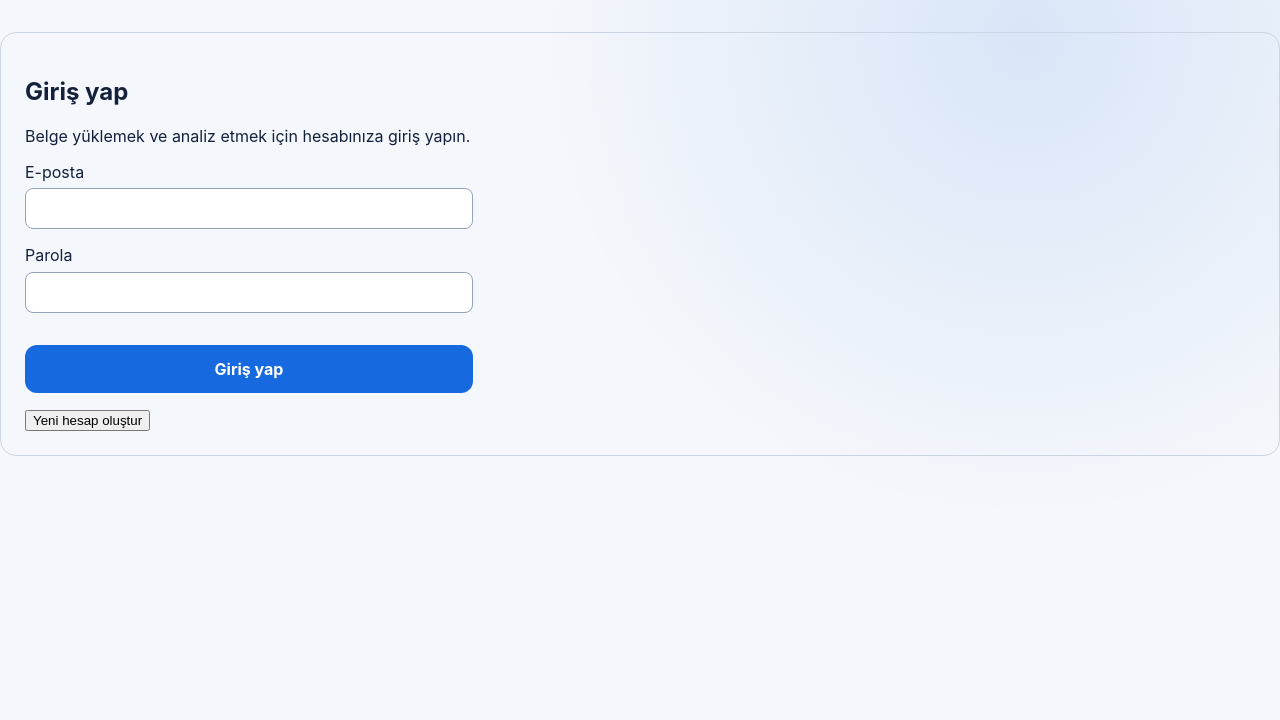
Test: AuthPanel › registers an ordinary user then asks them to log in
The image size is (1280, 720).
Click the button "Yeni hesap oluştur".
click(88, 420)  # box [25,410,150,431]
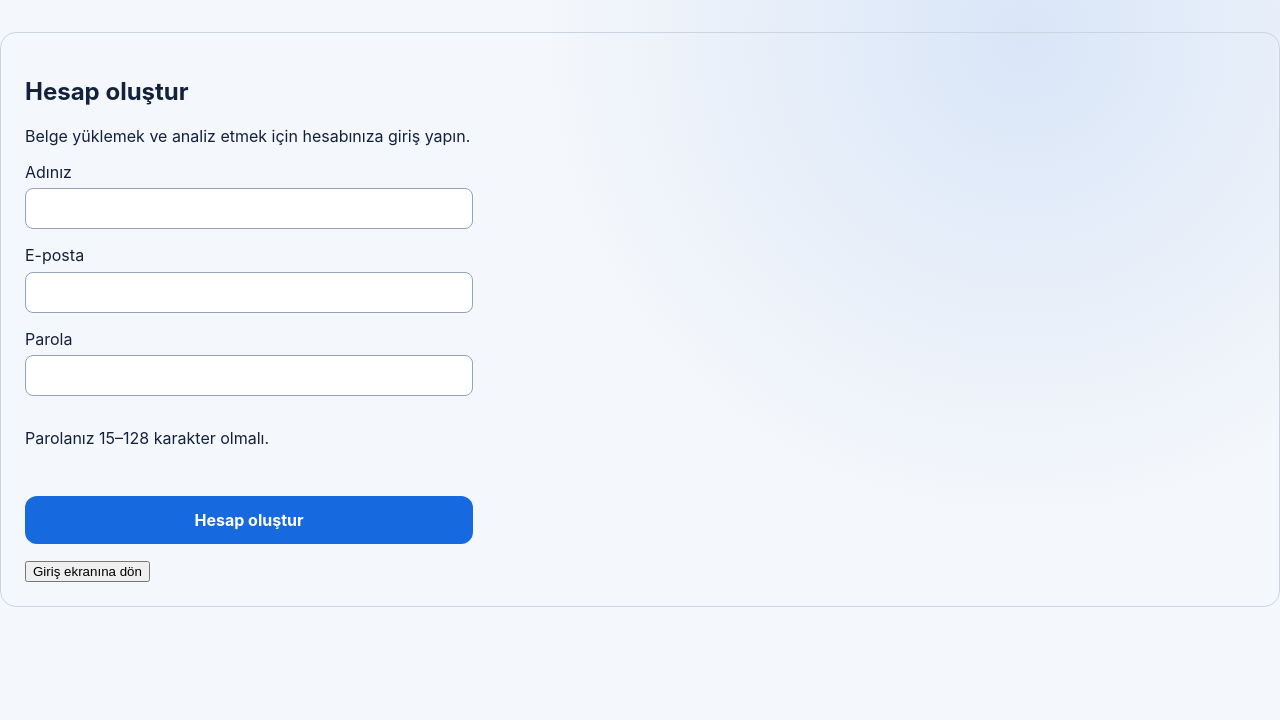
Type "person@example.com" into the field labelled "E-posta".
click(249, 292); type("person@example.com")  # box [25,272,473,313]
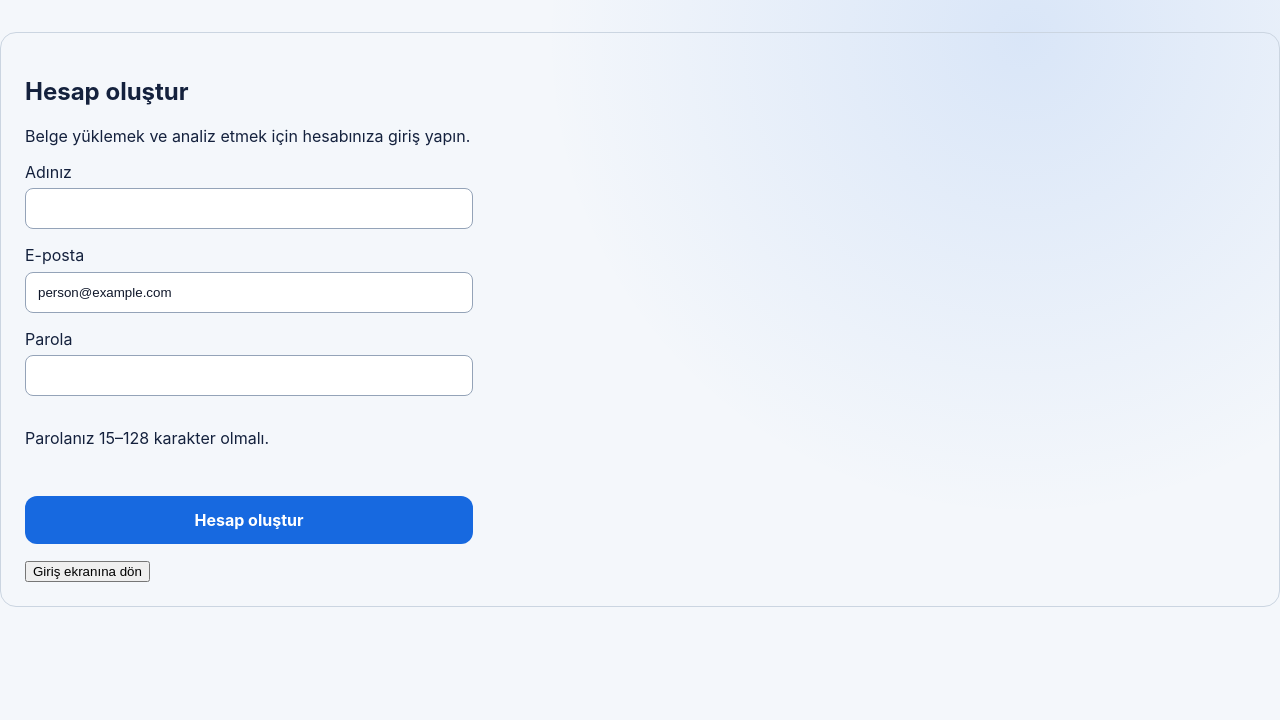
Type "correct horse battery staple" into the password field labelled "Parola".
click(249, 376); type("correct horse battery staple")  # box [25,355,473,396]
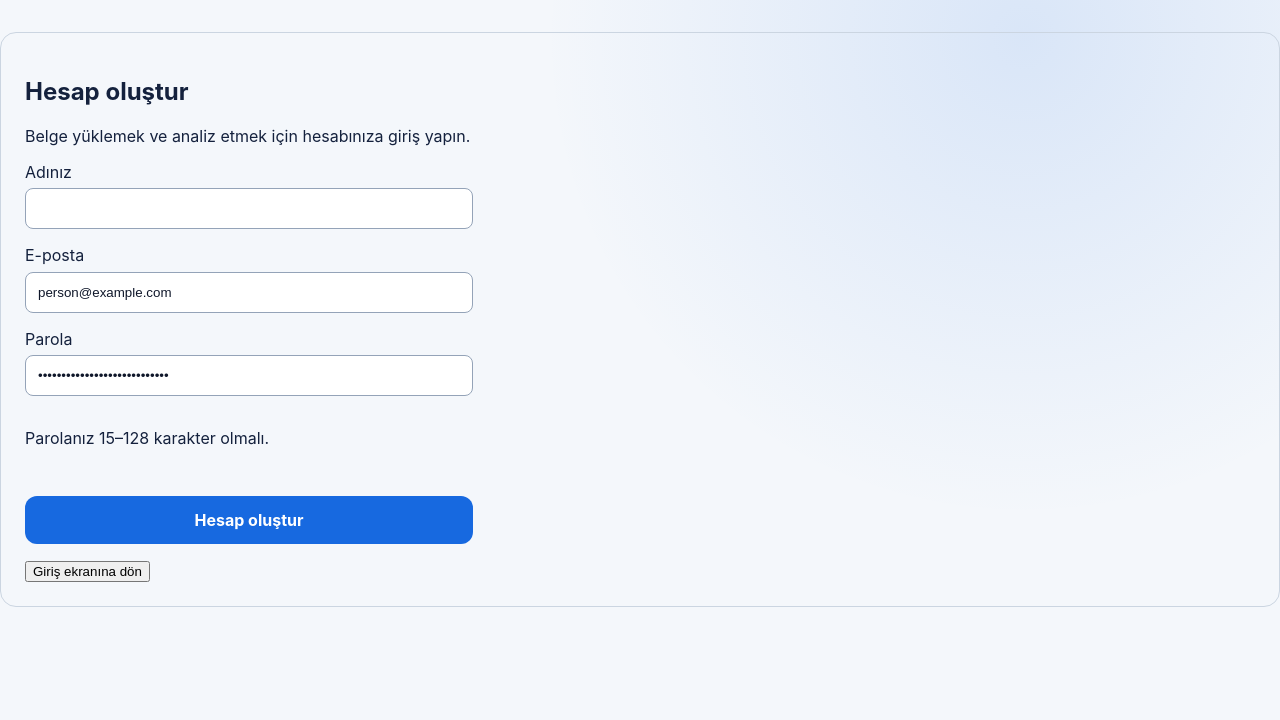
Type "Person" into the field labelled "Adınız".
click(249, 209); type("Person")  # box [25,188,473,229]
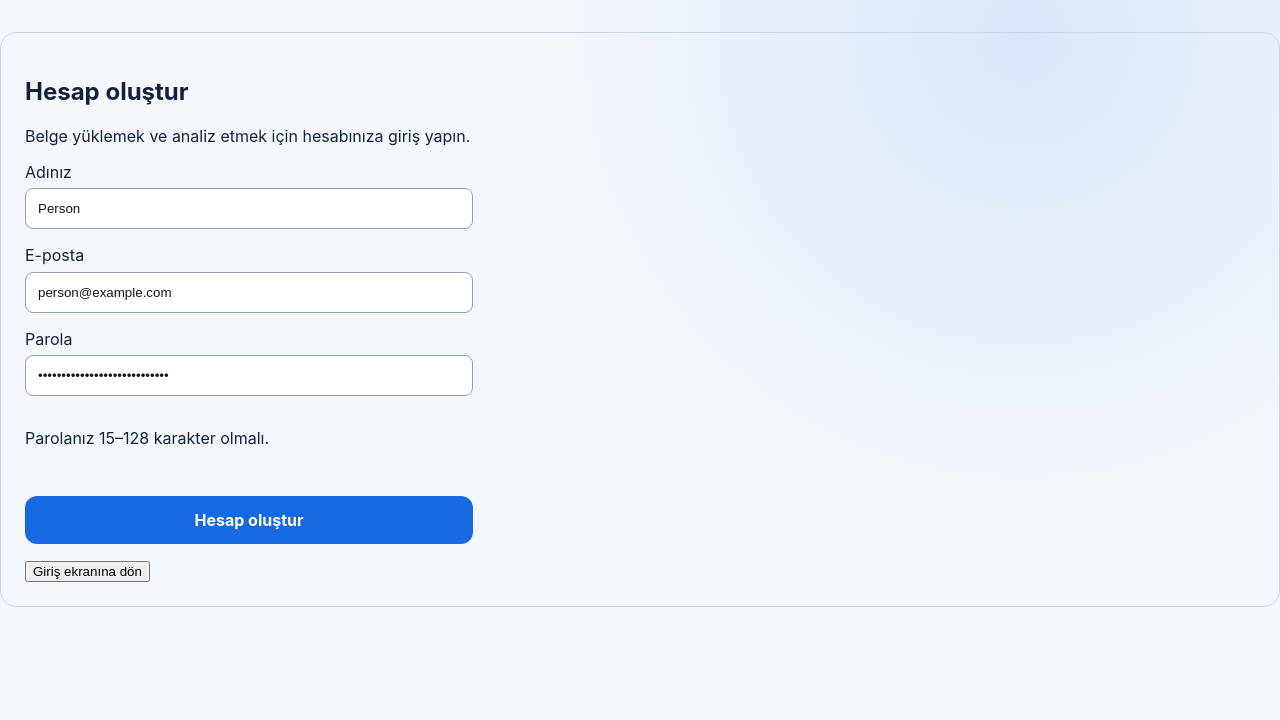
Click the button "Hesap oluştur".
click(249, 520)  # box [25,496,473,544]
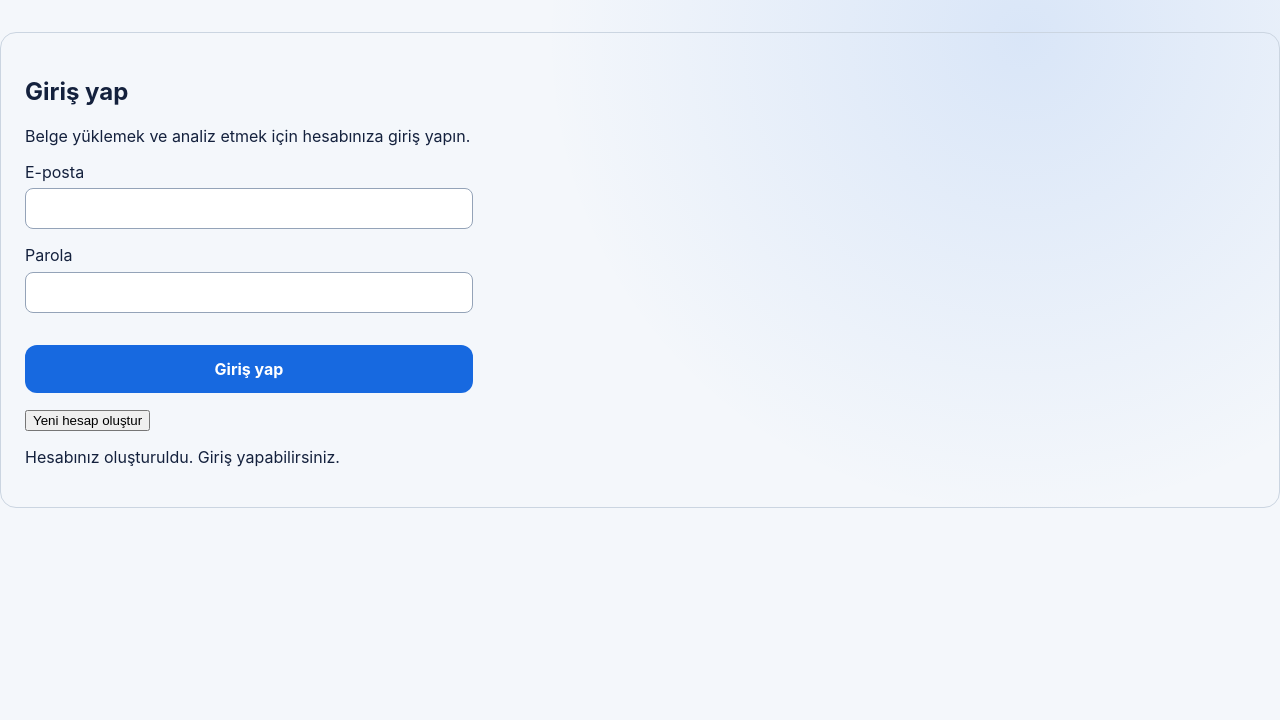
Now the text "Hesabınız oluşturuldu. Giriş yapabilirsiniz." is shown, box [25,447,340,467]
